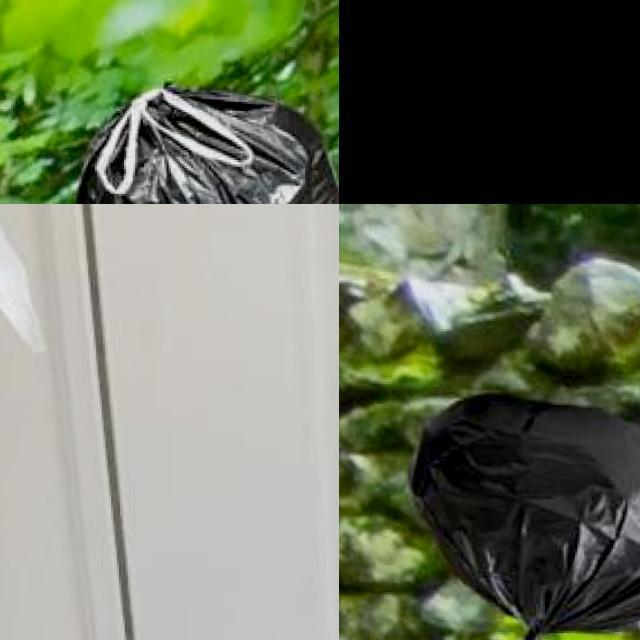waste: (408, 390, 640, 640), (71, 86, 339, 204)
